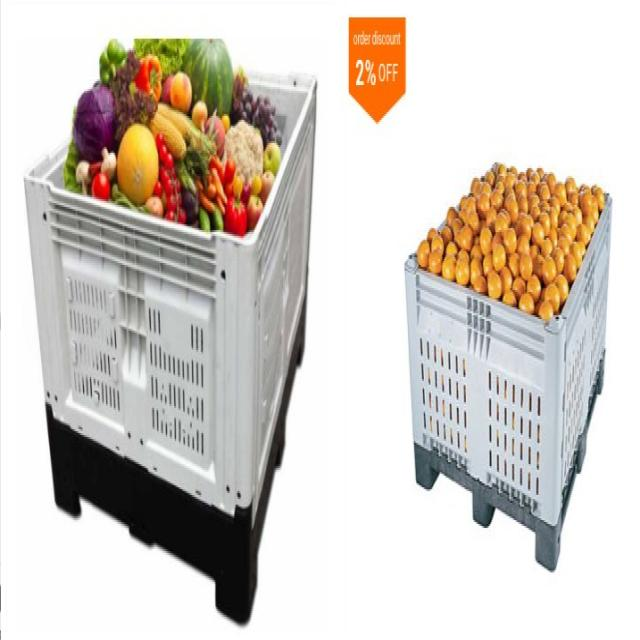basket: (2, 63, 318, 626), (392, 186, 614, 571)
